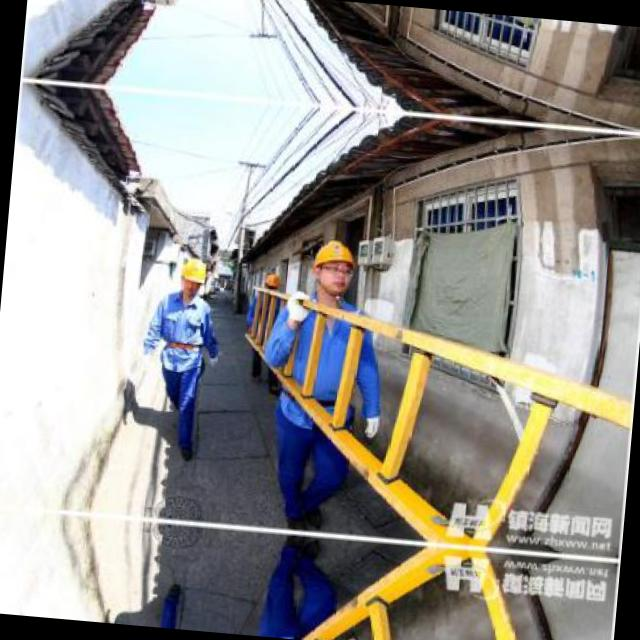helmet: (307, 235, 360, 299), (174, 254, 210, 301), (259, 272, 279, 294)
